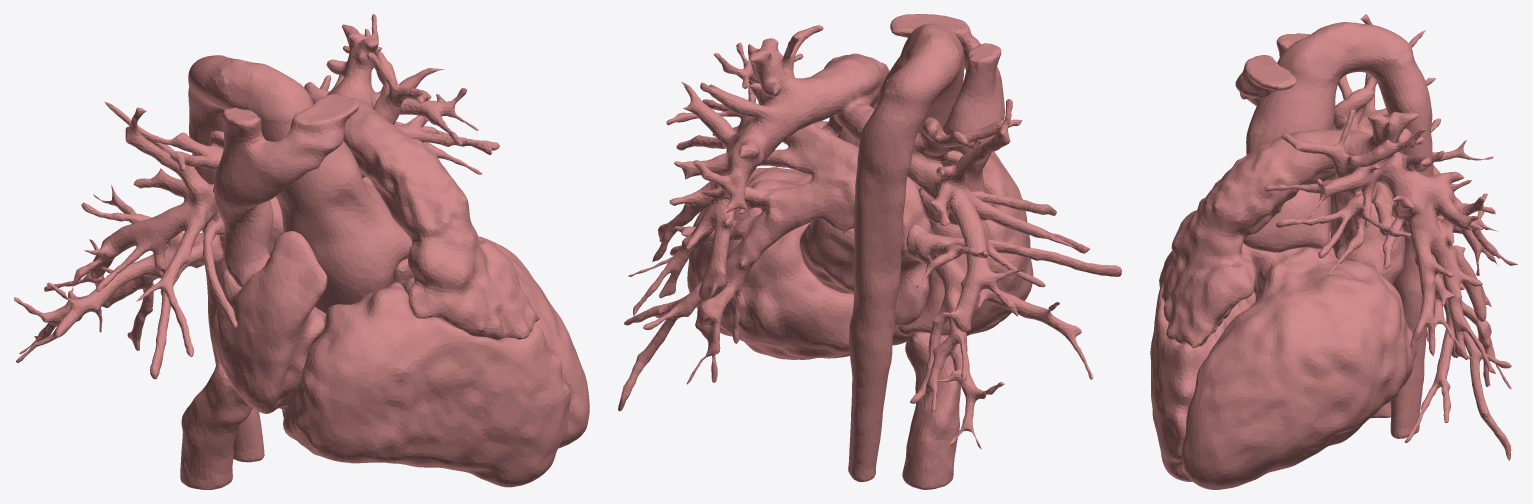
Rendered from corazon_hd.glb.
3 renders of one model, left to right at view 1: azimuth 30°, elevation 25°; view 2: azimuth 150°, elevation 25°; view 3: azimuth 270°, elevation 25°, orthographic. The views are drawn at different scales.
Parts seen in each view (by area): view 1: corazon.stl; view 2: corazon.stl; view 3: corazon.stl.
Boxes of the visible parts, left/top/right/bottom form: corazon.stl: left=14, top=14, right=589, bottom=489; corazon.stl: left=618, top=14, right=1121, bottom=489; corazon.stl: left=1150, top=14, right=1517, bottom=489.
Bounding box in the file's own units: 186 × 164 × 139.
